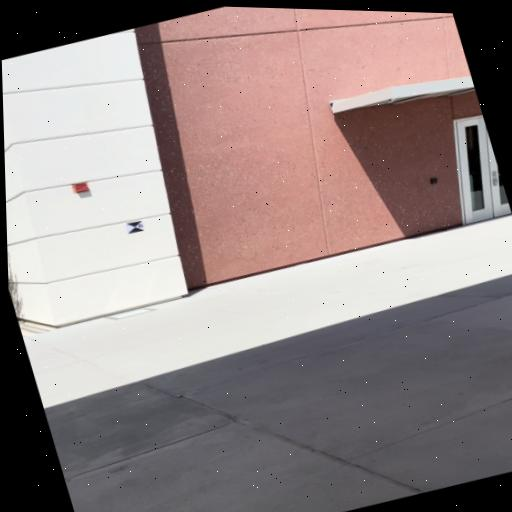target6: (125, 220, 144, 233)
